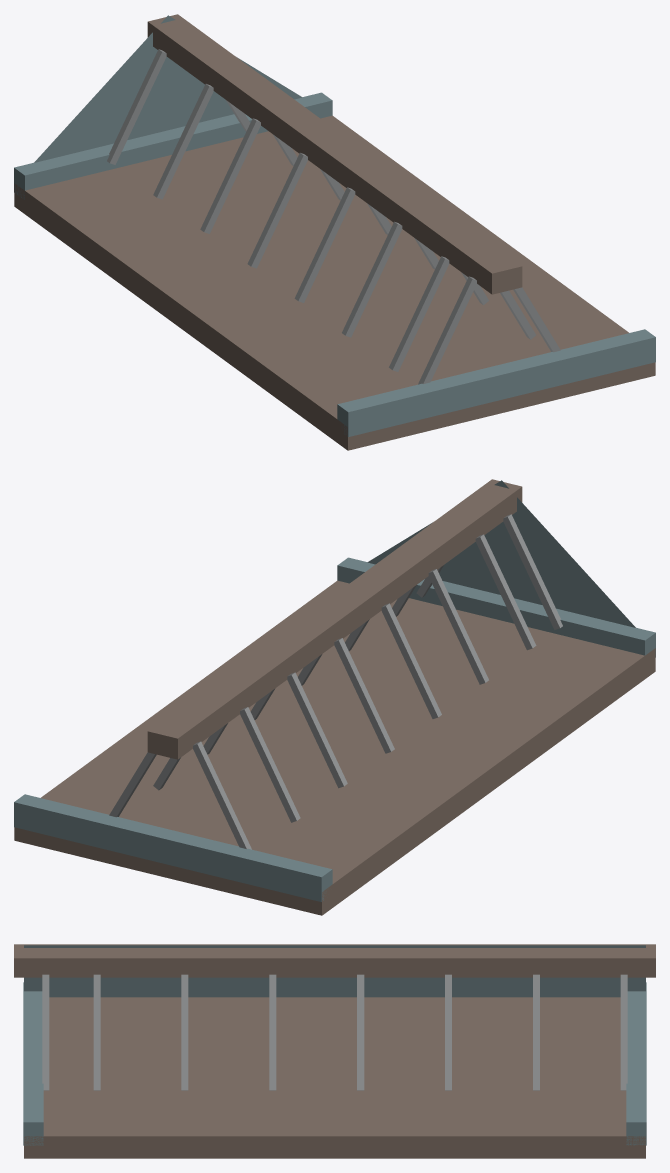
The model's file is telhado_canto_jade.glb.
The picture shows the model from 3 angles, top to bottom: view 1: azimuth 30°, elevation 25°; view 2: azimuth 150°, elevation 25°; view 3: azimuth 270°, elevation 25°; orthographic projection. The views are drawn at different scales.
Visible parts, largest first — view 1: telhado_canto_jade_part_001, telhado_canto_jade_part_018, telhado_canto_jade_part_020, telhado_canto_jade_part_000, telhado_canto_jade_part_019, telhado_canto_jade_part_010, telhado_canto_jade_part_012, telhado_canto_jade_part_004, telhado_canto_jade_part_006, telhado_canto_jade_part_014, telhado_canto_jade_part_008, telhado_canto_jade_part_002 (+2 smaller); view 2: telhado_canto_jade_part_001, telhado_canto_jade_part_018, telhado_canto_jade_part_019, telhado_canto_jade_part_000, telhado_canto_jade_part_020, telhado_canto_jade_part_006, telhado_canto_jade_part_008, telhado_canto_jade_part_010, telhado_canto_jade_part_012, telhado_canto_jade_part_014, telhado_canto_jade_part_004, telhado_canto_jade_part_016 (+2 smaller); view 3: telhado_canto_jade_part_001, telhado_canto_jade_part_018, telhado_canto_jade_part_000, telhado_canto_jade_part_020, telhado_canto_jade_part_019, telhado_canto_jade_part_009, telhado_canto_jade_part_011, telhado_canto_jade_part_013, telhado_canto_jade_part_015, telhado_canto_jade_part_003, telhado_canto_jade_part_017, telhado_canto_jade_part_005 (+1 smaller).
Part boxes in pixels (x1,y1,x2,y2): telhado_canto_jade_part_001: (14, 115, 655, 450); telhado_canto_jade_part_018: (147, 14, 522, 294); telhado_canto_jade_part_020: (337, 329, 655, 436); telhado_canto_jade_part_000: (34, 15, 302, 162); telhado_canto_jade_part_019: (14, 92, 332, 199); telhado_canto_jade_part_010: (294, 187, 355, 302); telhado_canto_jade_part_012: (342, 221, 402, 337); telhado_canto_jade_part_004: (153, 84, 213, 199); telhado_canto_jade_part_006: (200, 118, 260, 233); telhado_canto_jade_part_014: (389, 256, 449, 371); telhado_canto_jade_part_008: (247, 153, 307, 268); telhado_canto_jade_part_002: (107, 49, 166, 164); telhado_canto_jade_part_001: (14, 580, 655, 915); telhado_canto_jade_part_018: (147, 479, 522, 759); telhado_canto_jade_part_019: (14, 794, 332, 901); telhado_canto_jade_part_000: (367, 480, 635, 627); telhado_canto_jade_part_020: (337, 557, 655, 657); telhado_canto_jade_part_006: (287, 672, 347, 788); telhado_canto_jade_part_008: (334, 638, 394, 753); telhado_canto_jade_part_010: (381, 603, 441, 718); telhado_canto_jade_part_012: (428, 569, 488, 684); telhado_canto_jade_part_014: (475, 534, 536, 650); telhado_canto_jade_part_004: (240, 707, 300, 822); telhado_canto_jade_part_016: (503, 514, 562, 629); telhado_canto_jade_part_001: (24, 997, 645, 1158); telhado_canto_jade_part_018: (14, 944, 655, 977); telhado_canto_jade_part_000: (24, 945, 645, 997); telhado_canto_jade_part_020: (23, 982, 43, 1145); telhado_canto_jade_part_019: (626, 982, 646, 1145); telhado_canto_jade_part_009: (357, 974, 364, 1090); telhado_canto_jade_part_011: (269, 974, 276, 1090); telhado_canto_jade_part_013: (181, 974, 188, 1090); telhado_canto_jade_part_015: (93, 974, 100, 1090); telhado_canto_jade_part_003: (620, 974, 627, 1090); telhado_canto_jade_part_017: (42, 974, 49, 1090); telhado_canto_jade_part_005: (533, 974, 539, 1090).
Size of the model in its own units: 2.45 by 1.17 by 4.75.
